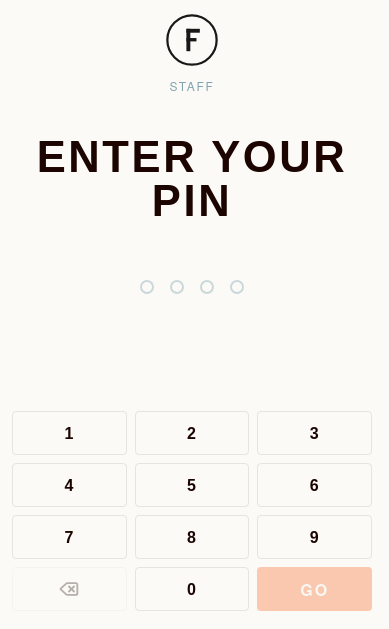
it: LoginForm › displays an error message on failed login and clears the PIN
What coordinates should you click on to do the following:
click the button "9"
I would click on:
 (315, 537)
Its box is x1=257 y1=515 x2=372 y2=559.
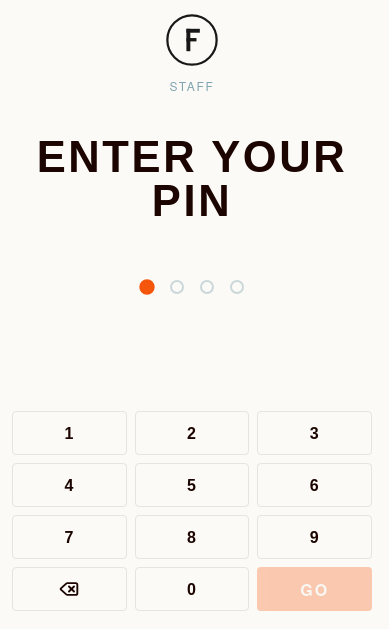
What coordinates should you click on to do the following:
click the button "9"
I would click on:
 (315, 537)
Its box is x1=257 y1=515 x2=372 y2=559.
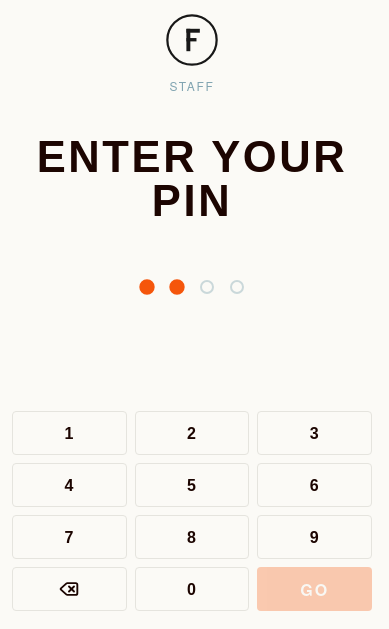
What coordinates should you click on to do the following:
click the button "9"
I would click on:
 (315, 537)
Its box is x1=257 y1=515 x2=372 y2=559.
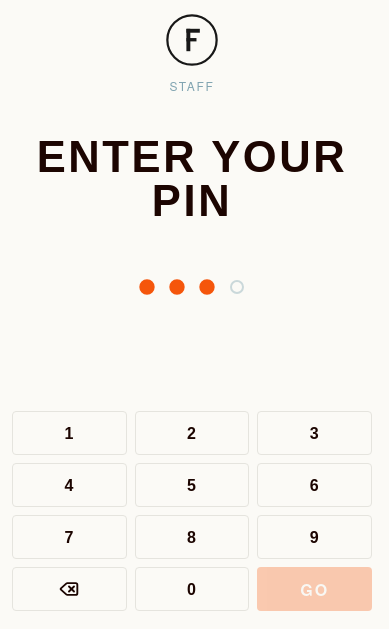
What coordinates should you click on to do the following:
click the button "9"
I would click on:
 (315, 537)
Its box is x1=257 y1=515 x2=372 y2=559.
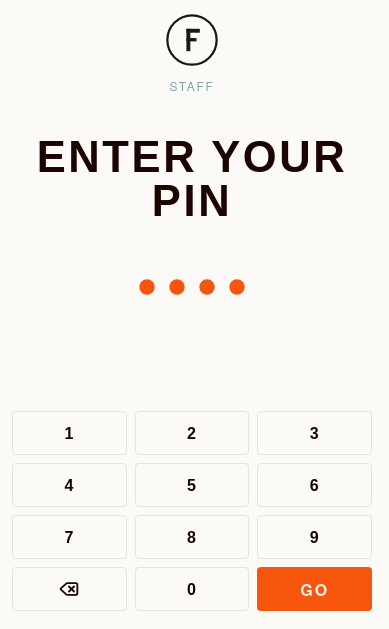
What coordinates should you click on to do the following:
click the button with aria-label "Confirm PIN"
I would click on:
 (315, 589)
Its box is x1=257 y1=567 x2=372 y2=611.
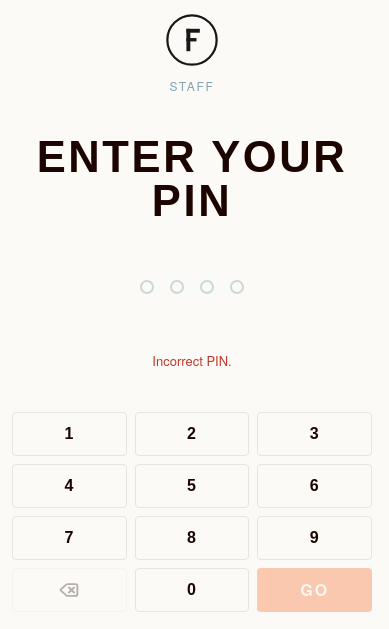
Now the message "Incorrect PIN." is shown, box x1=152 y1=351 x2=232 y2=372
Now the button with aria-label "Confirm PIN" is disabled, box x1=257 y1=568 x2=372 y2=612
